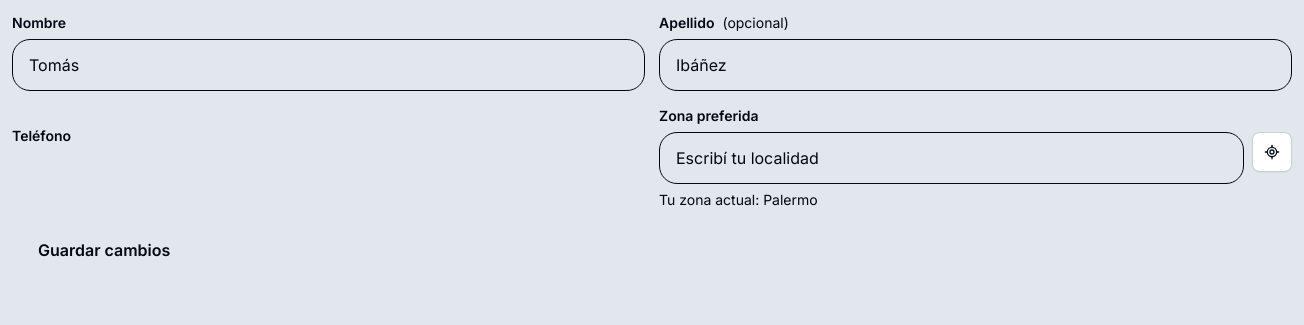
Test: ProfileForm › un error sin campo va una vez, debajo, sin marcar ningún campo
Click the button "Guardar cambios" at [104, 250], box [12,224,196,276]
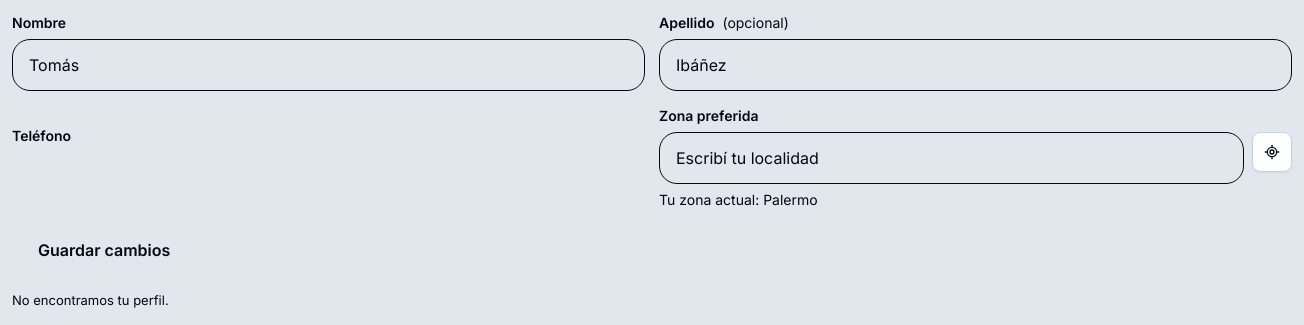
Now the message reads "No encontramos tu perfil.", box [12,292,169,308]
